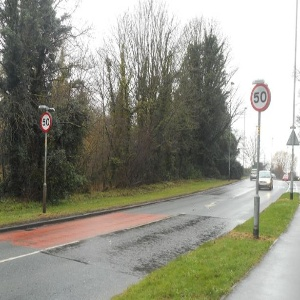50 speed: (250, 83, 270, 112), (40, 112, 52, 133)
